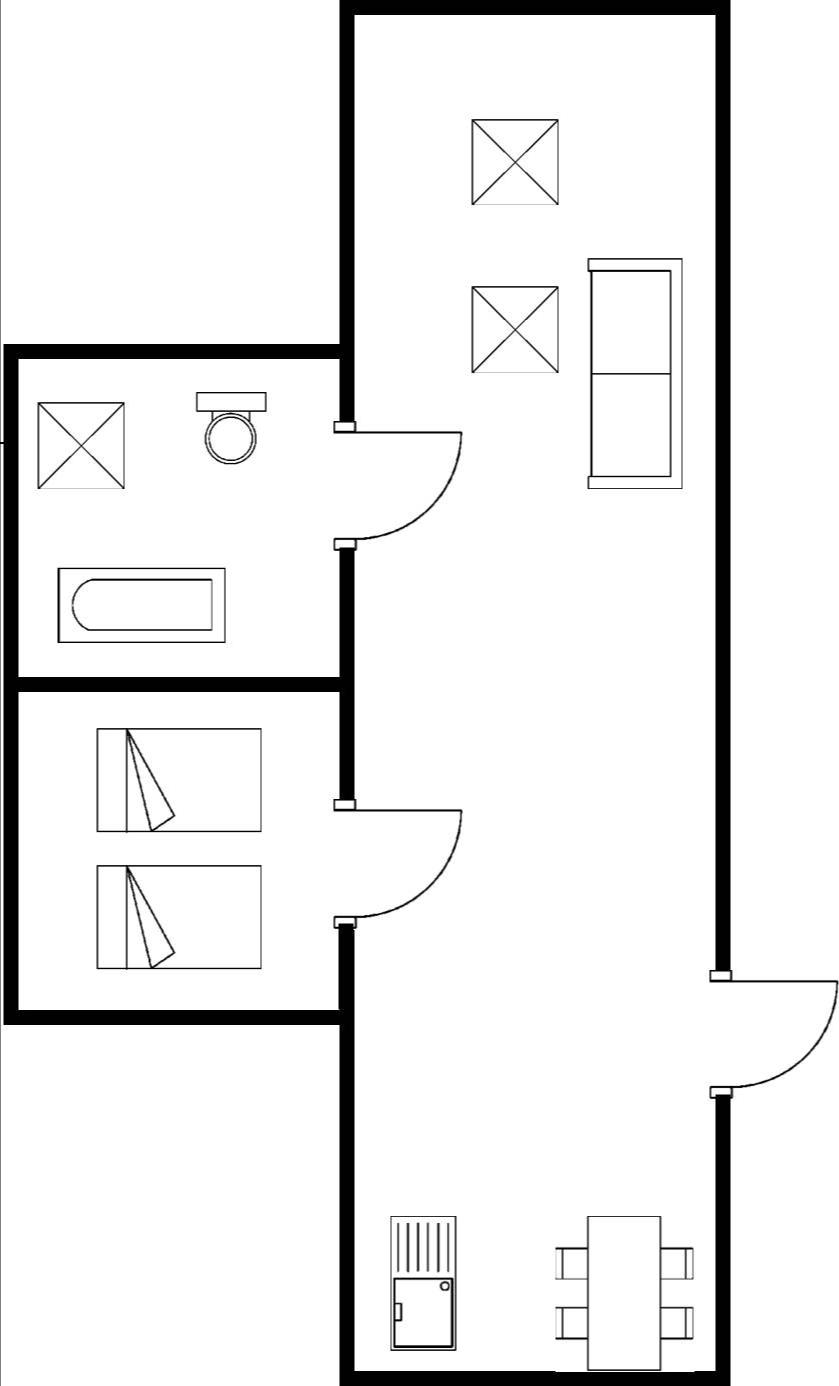bed: (86, 717, 270, 840), (85, 858, 270, 974)
dining_table: (547, 1202, 698, 1379)
sink: (382, 1209, 460, 1355)
sofa: (581, 252, 689, 495)
toilet: (185, 380, 274, 466)
tub: (48, 562, 235, 647)
